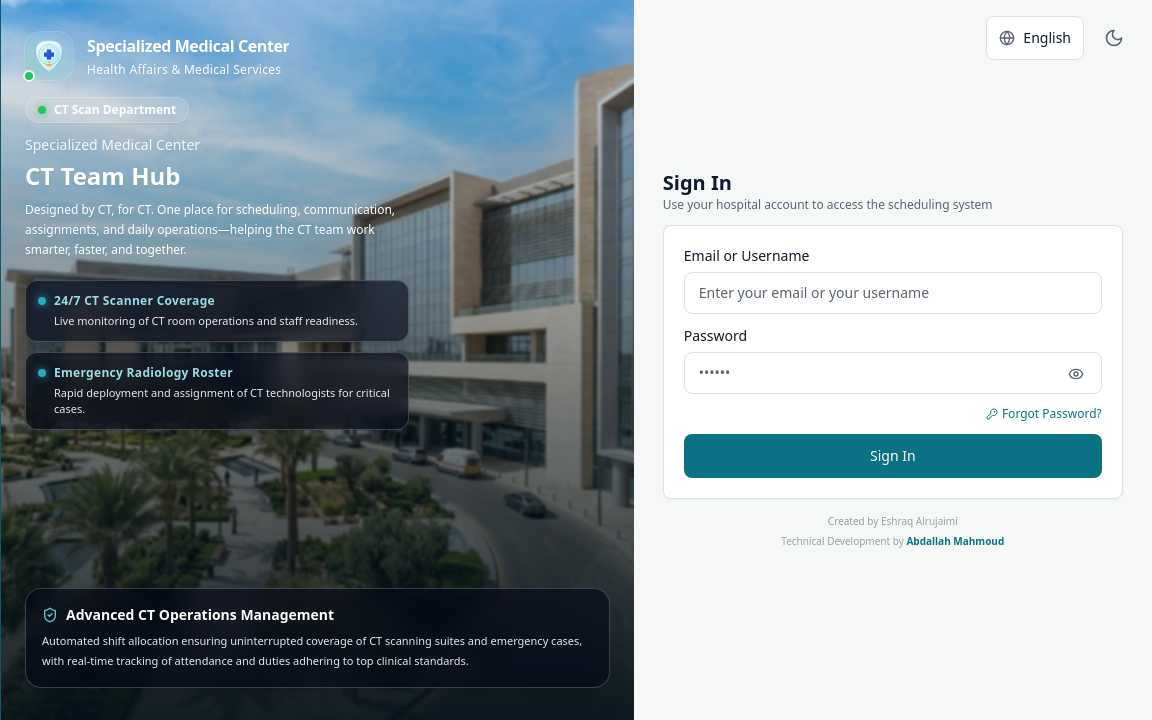
Test: LoginPage › shows service feedback when the sign-in request fails before authentication
Type "EMP-003" into the field labelled "Email or Username".
click(893, 293); type("EMP-003")  # box [684,272,1102,314]
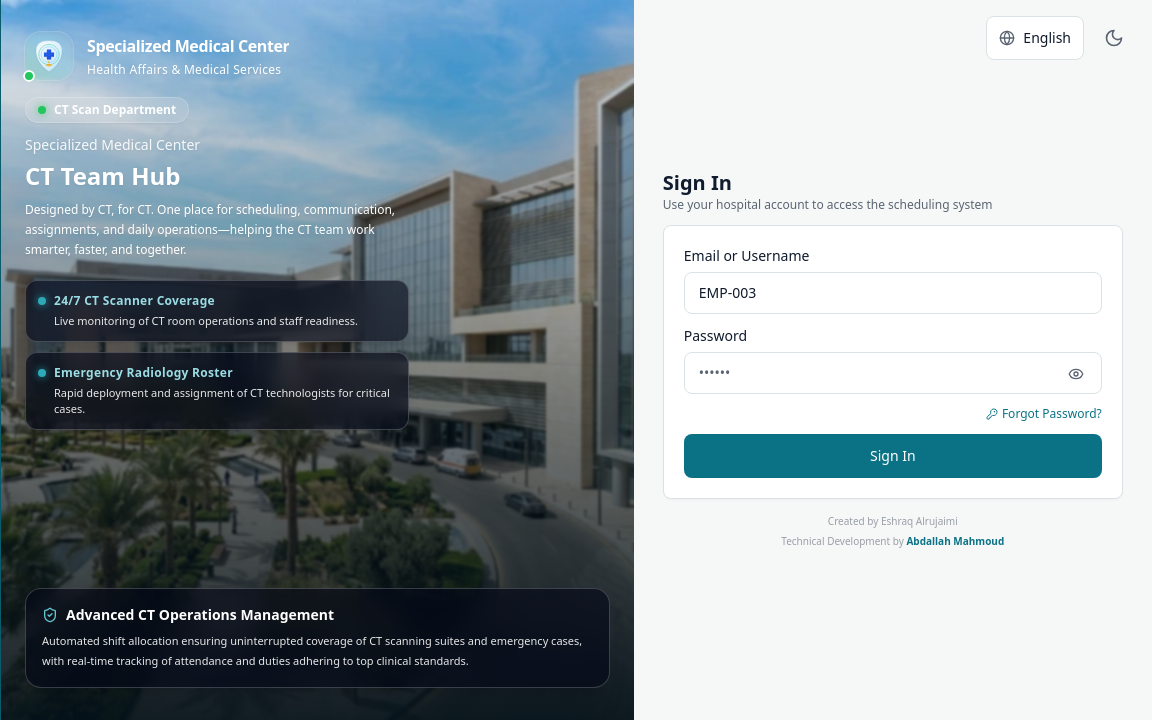
Type "123456" into the password field labelled "Password".
click(893, 373); type("123456")  # box [684,352,1102,394]
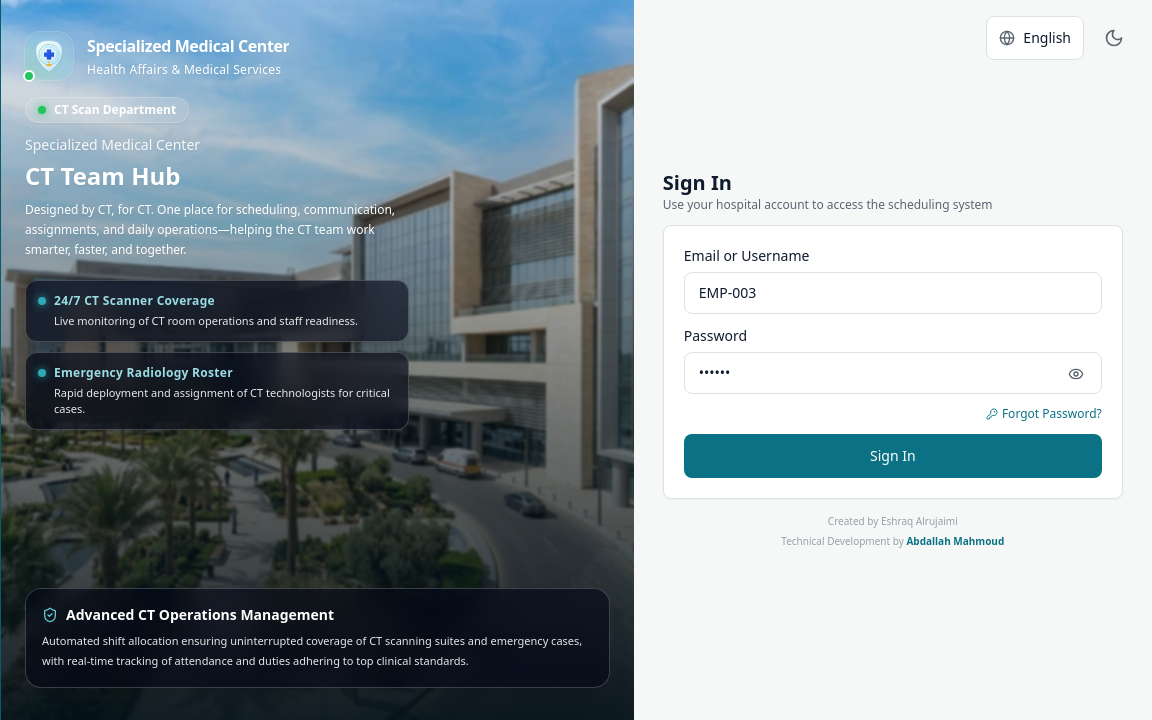
Click the button "Sign In".
click(893, 456)  # box [684,434,1102,478]
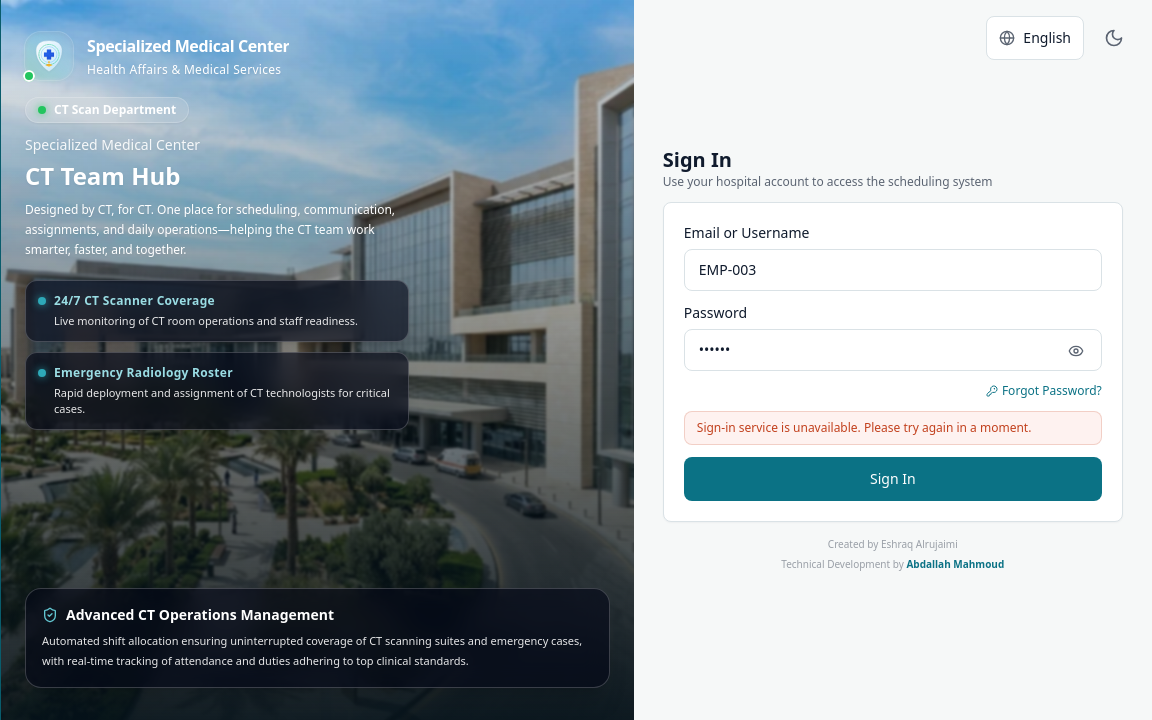
Check: the button "Sign-in service is unavailable. Please try again in a moment." is shown, box [684,411,1102,445]
